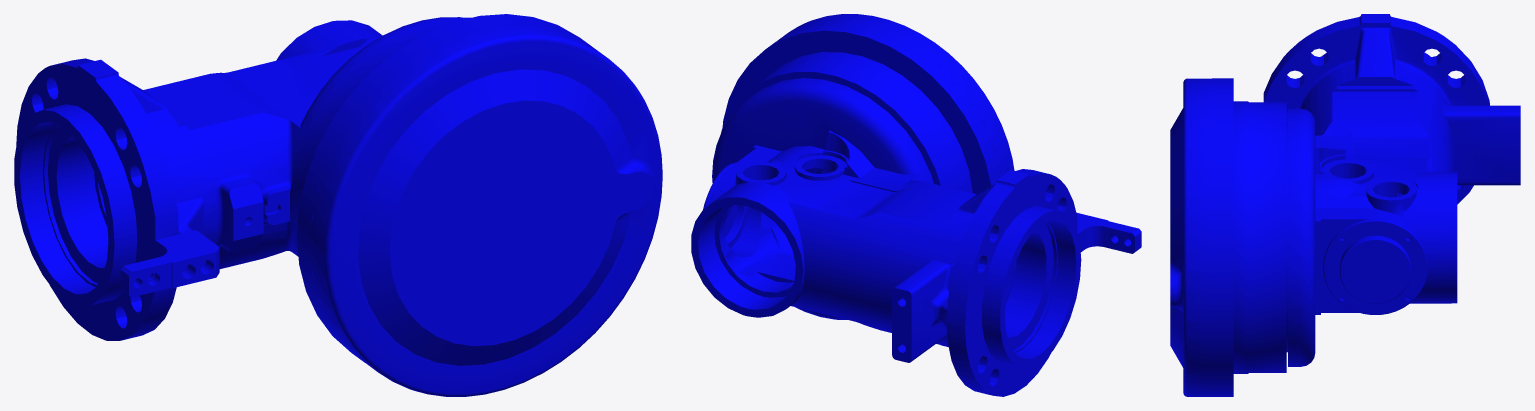
The model's file is es165d_R_AXIS.dae.
The picture shows the model from 3 angles, left to right: view 1: azimuth 30°, elevation 25°; view 2: azimuth 150°, elevation 25°; view 3: azimuth 270°, elevation 25°; orthographic projection. The views are drawn at different scales.
Parts seen in each view (by area): view 1: node; view 2: node; view 3: node.
Part boxes in pixels (left/top/right/bottom): node: left=14, top=14, right=662, bottom=396; node: left=691, top=14, right=1141, bottom=396; node: left=1170, top=14, right=1520, bottom=396.
Size of the model in its own units: 0.338 by 0.244 by 0.222.
